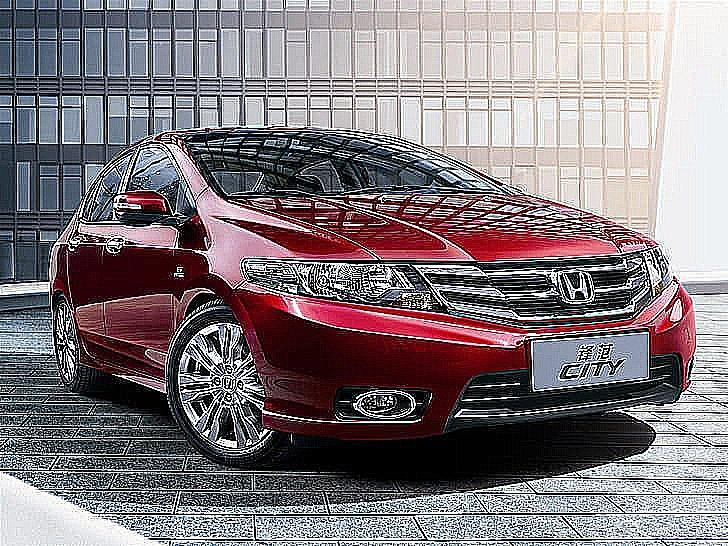Car hood: (231, 184, 665, 261)
Driver-s door - -F-R-: (87, 116, 194, 405)
Fender - -F-R-: (157, 184, 285, 365)
Fender - -R-R-: (39, 186, 82, 339)
Front bumper: (223, 281, 700, 442)
Headlight - -L-: (633, 240, 676, 311)
Headlight - -R-: (242, 254, 444, 321)
Passenger-s door - -R-R-: (55, 137, 129, 394)
Side bumper - -R-: (75, 341, 175, 394)
Side mirror - -R-: (108, 184, 194, 239)
